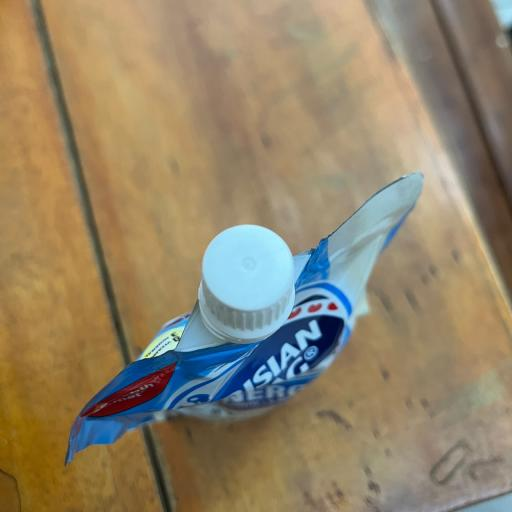Frisian Flag Kental Manis: (57, 169, 427, 471)
